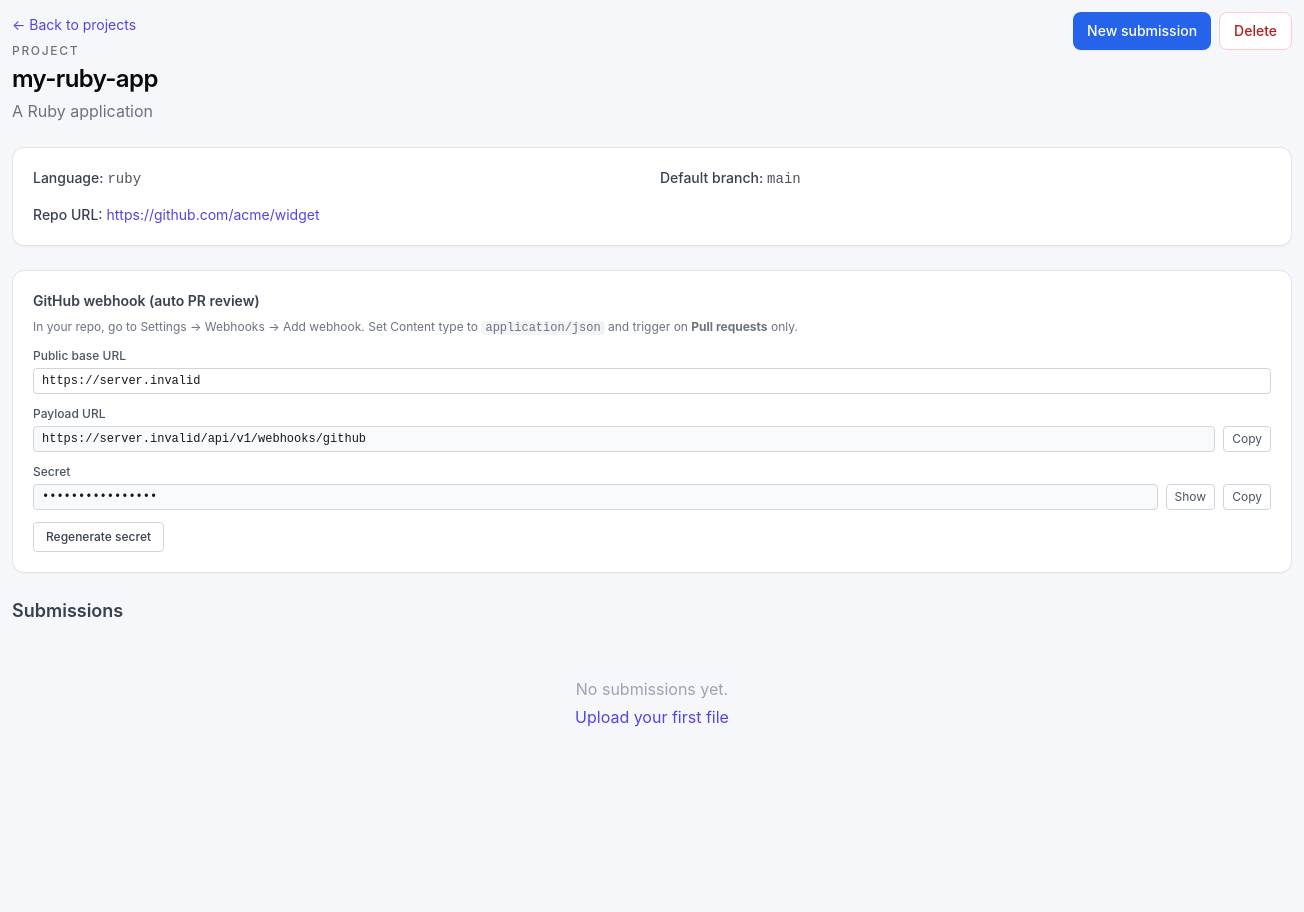
ProjectDetailPage — webhook panel › copies the secret to the clipboard
This screenshot has width=1304, height=912.
What coordinates should you click on to do the following:
click the button with test id "webhook-secret-copy"
I would click on:
 (1247, 497)
Its box is x1=1223 y1=484 x2=1271 y2=510.
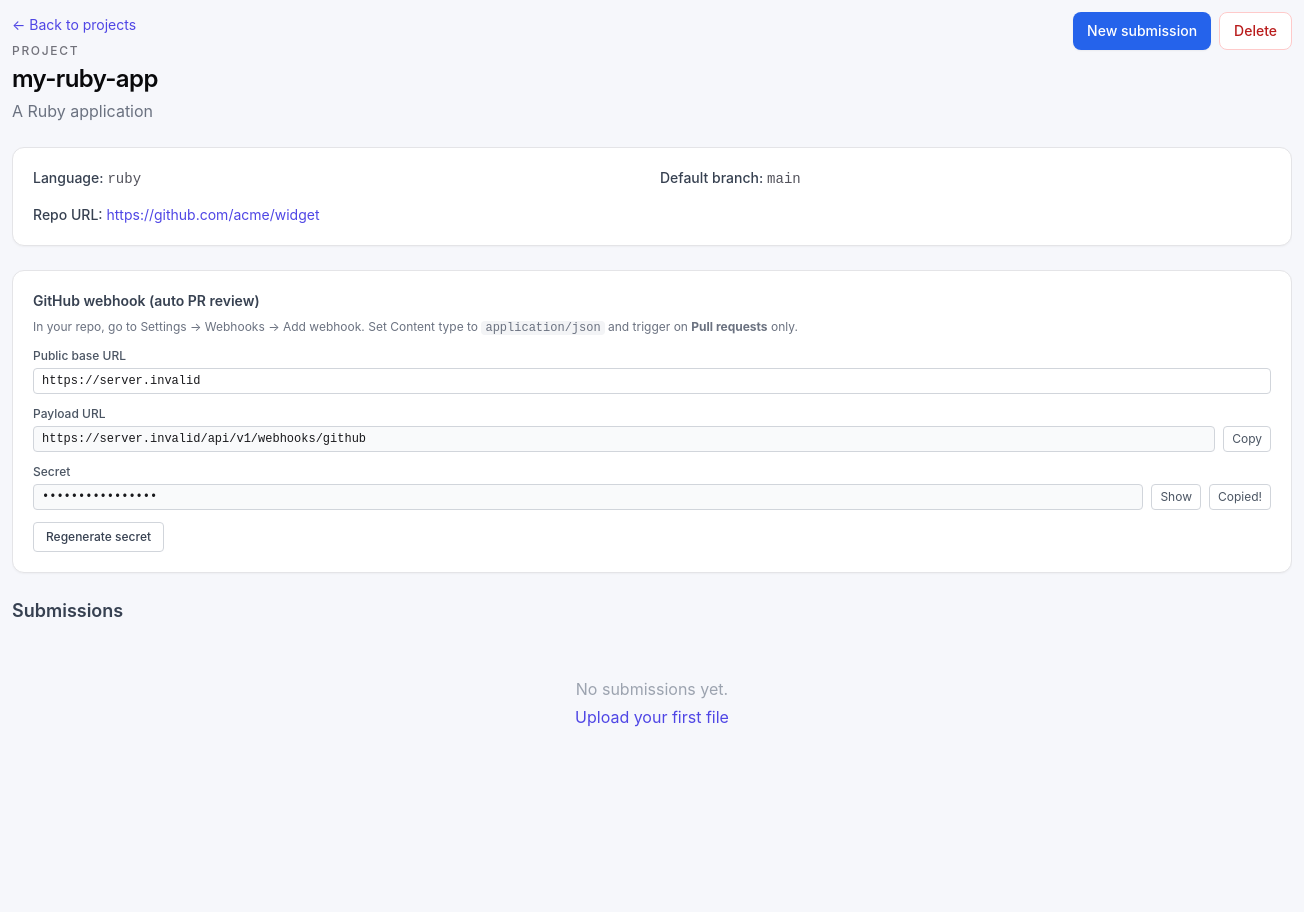
Expected: the button with test id "webhook-secret-copy" reads "Copied!", x1=1209 y1=484 x2=1271 y2=510
